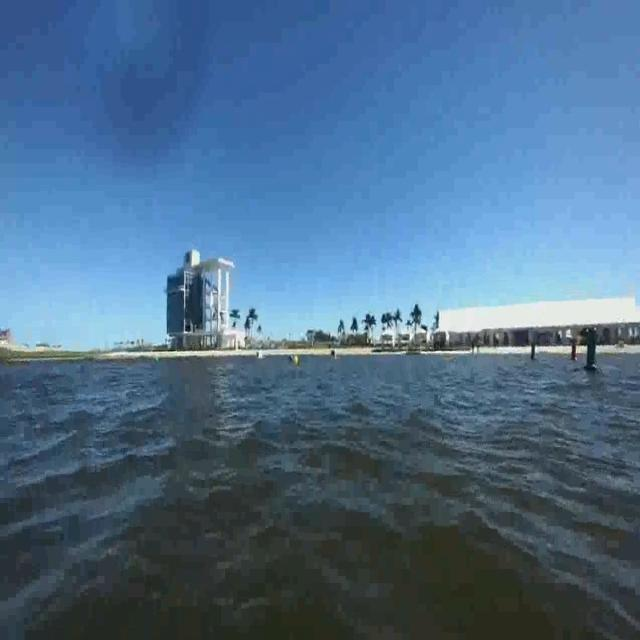green-column-buoy: (584, 326, 602, 373)
yellow-buoy: (294, 355, 300, 367)
